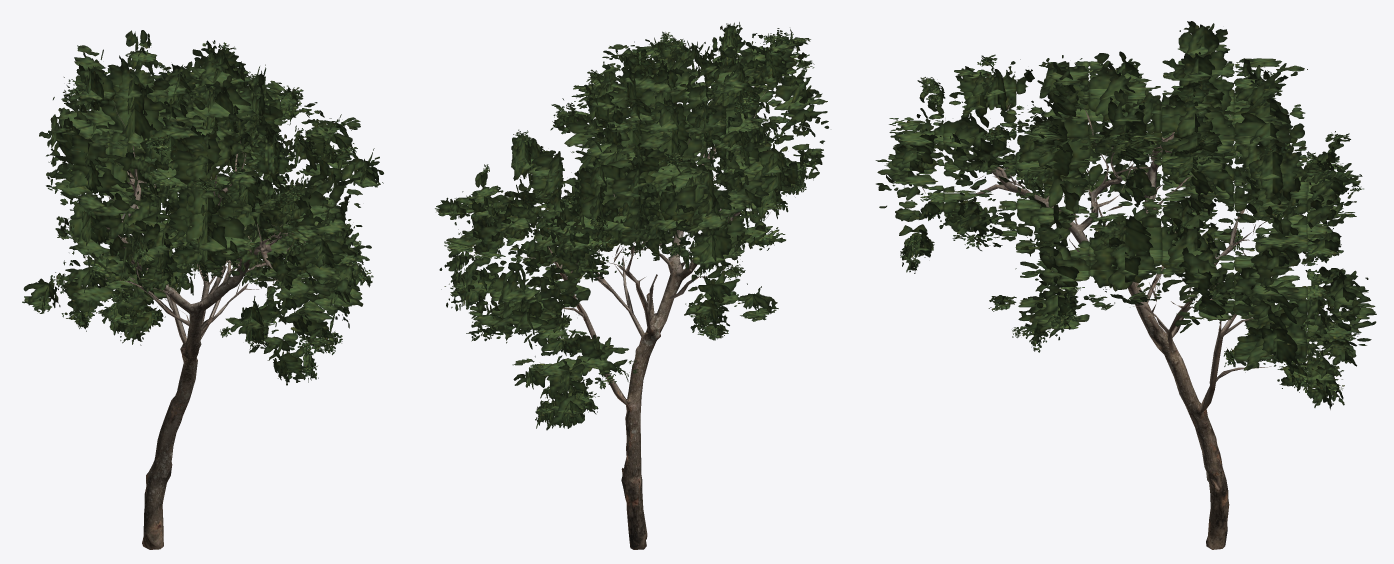
File: tree_small_02-high.glb
The picture shows the model from 3 angles, left to right: view 1: azimuth 30°, elevation 25°; view 2: azimuth 150°, elevation 25°; view 3: azimuth 270°, elevation 25°; orthographic projection. The views are drawn at different scales.
Parts seen in each view (by area): view 1: baked-leaf-clusters, tree_small_02_LOD0; view 2: baked-leaf-clusters, tree_small_02_LOD0; view 3: baked-leaf-clusters, tree_small_02_LOD0.
Boxes of the visible parts, <box> form: baked-leaf-clusters: <box>22,30,383,385</box>; tree_small_02_LOD0: <box>85,106,328,549</box>; baked-leaf-clusters: <box>435,22,828,430</box>; tree_small_02_LOD0: <box>524,58,770,549</box>; baked-leaf-clusters: <box>875,21,1376,409</box>; tree_small_02_LOD0: <box>921,93,1287,549</box>.
Bounding box in the file's own units: 2.97 × 4.56 × 4.29.
Materials: 3 (3 with a texture image).
